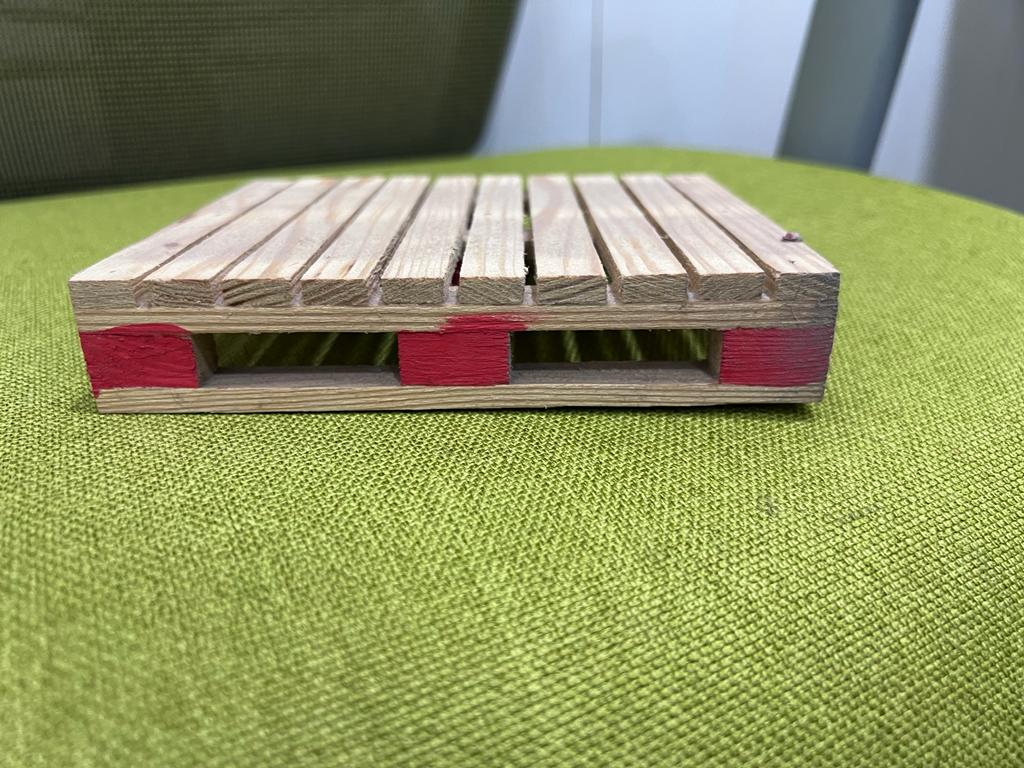pallet: (49, 170, 854, 409)
